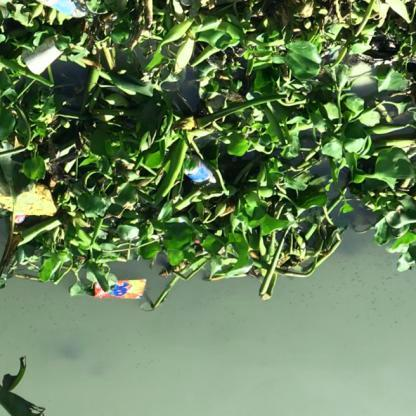Plastic: (21, 38, 67, 79)
Trash: (88, 274, 154, 304), (184, 154, 216, 182)
